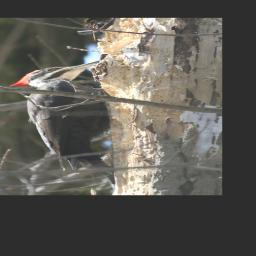Woodpecker: (8, 60, 113, 189)
